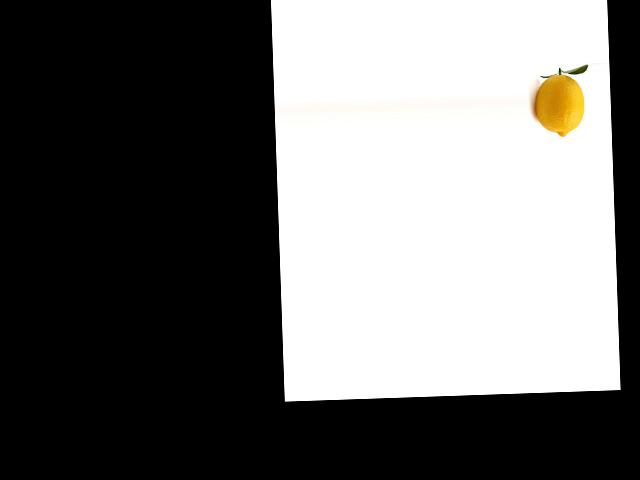lemon: (532, 72, 586, 141)
